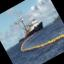fishing boat: (4, 4, 46, 43)
